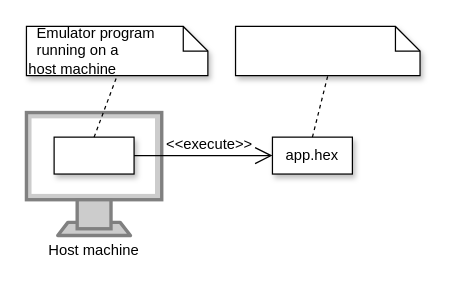
Some shapes in this 449 by 284 pixel diagram are drawn without their labels. Each missing label, with the centre of its shape:
Application build for a different architecture: point 328,52
Emulator: point 94,157
